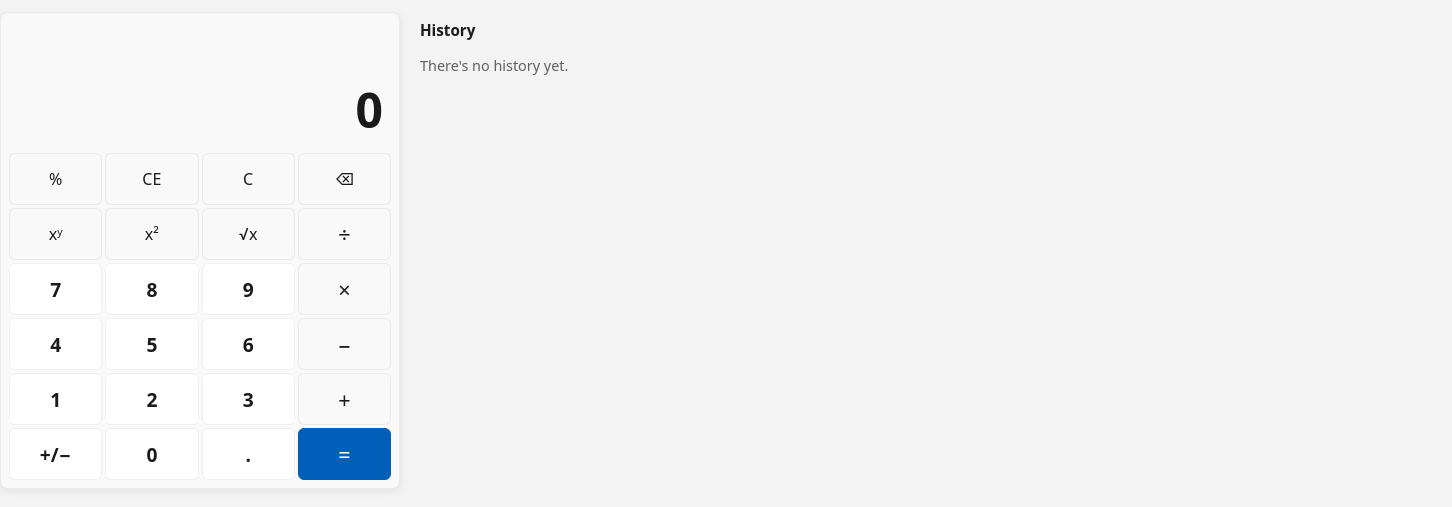
Calculator › computes through the backend and shows the expression
Click the button "1" at (56,399), box [9, 373, 102, 425]
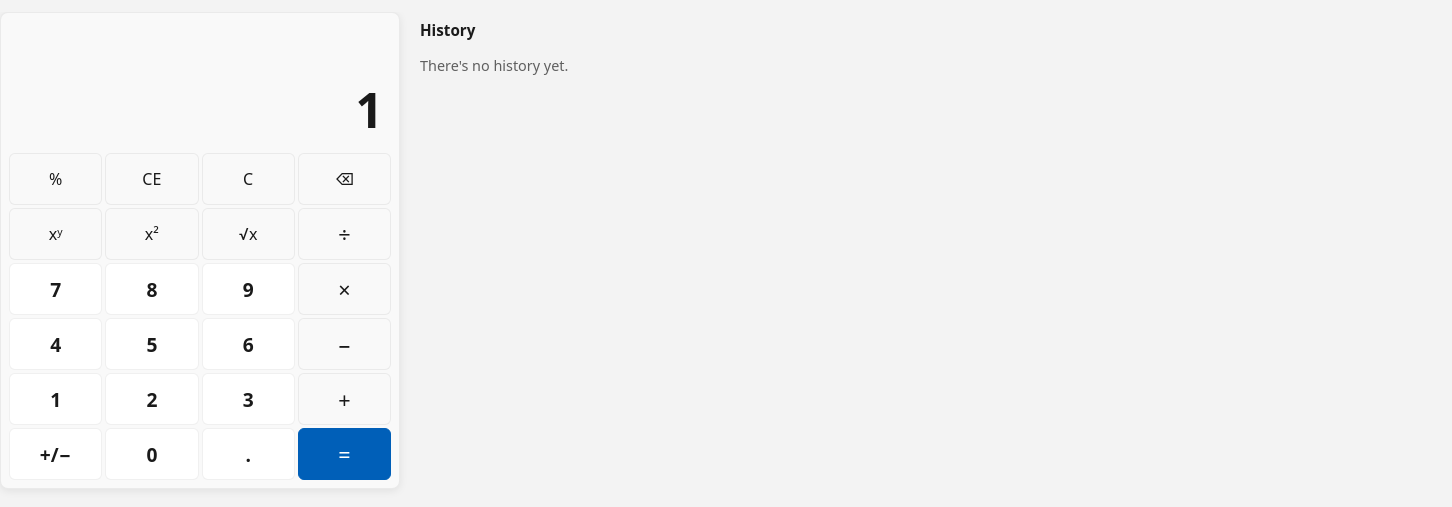
Click the button "2" at (152,399), box [105, 373, 199, 425]
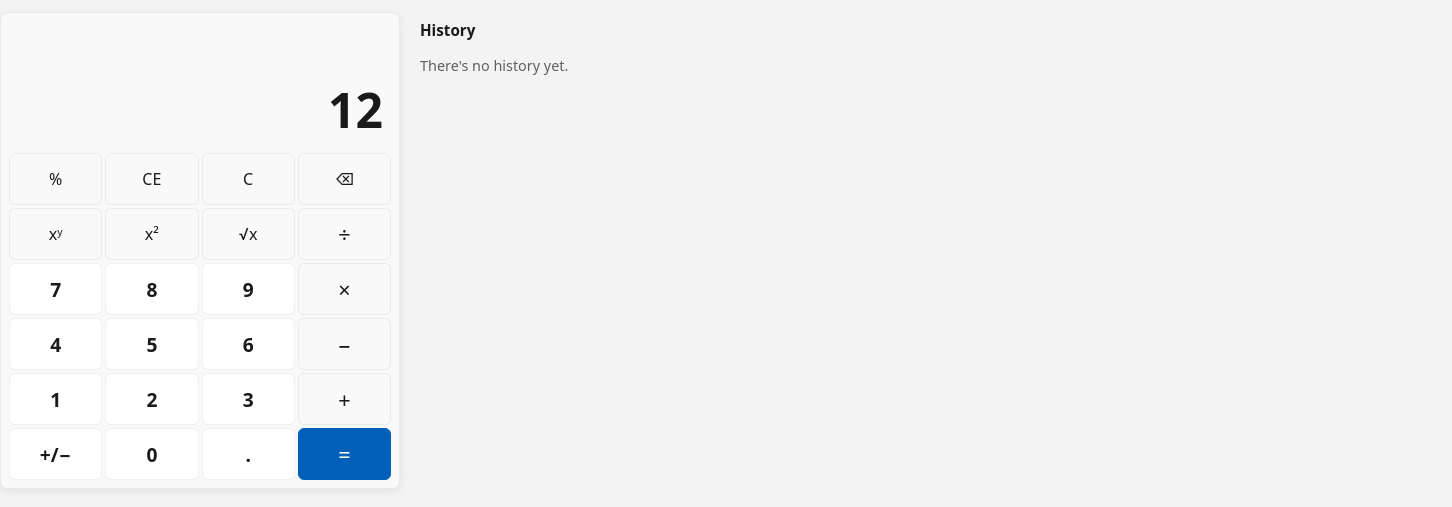
Click the button named "Add" at (344,399), box [298, 373, 391, 425]
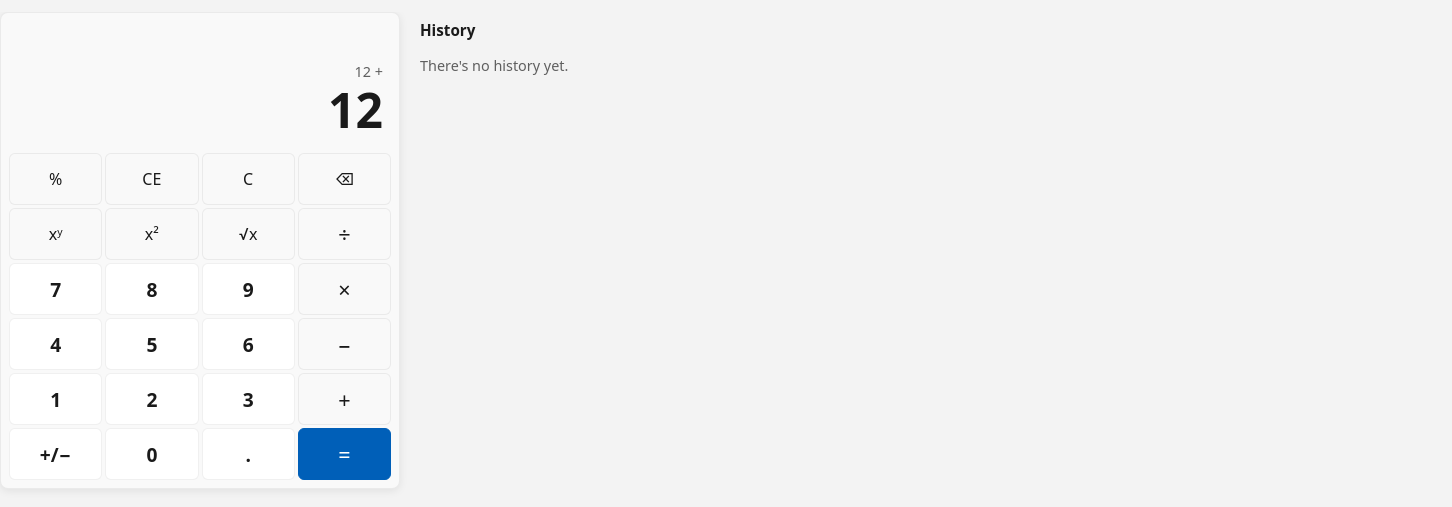
Click the button "3" at (248,399), box [202, 373, 295, 425]
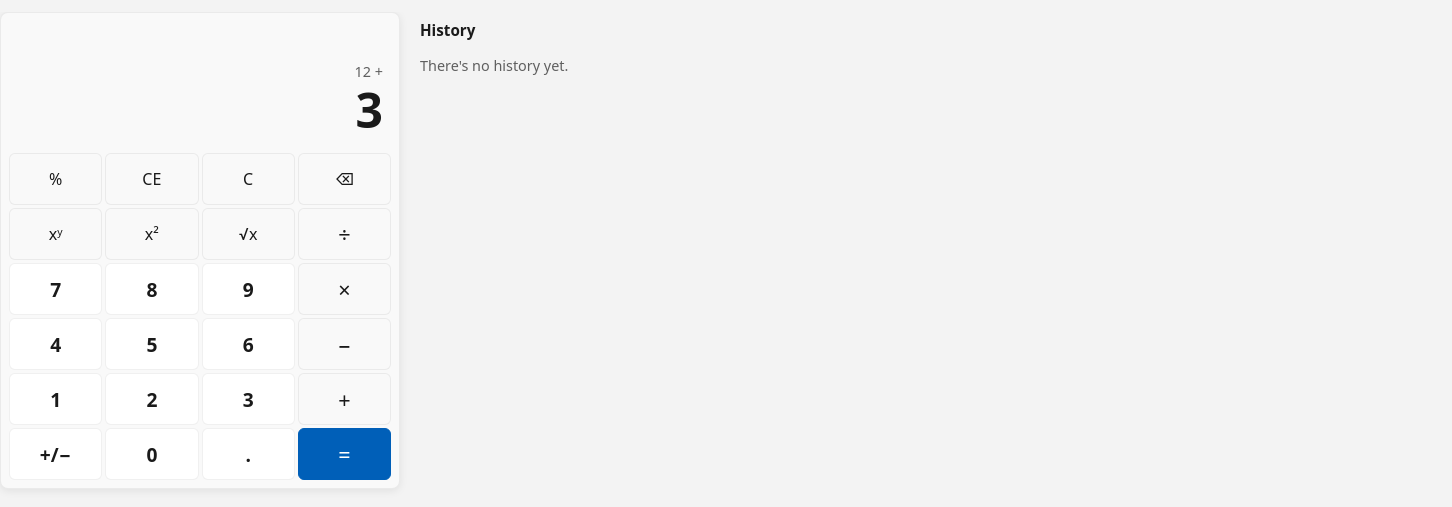
Click the button named "Equals" at (344,454), box [298, 428, 391, 480]
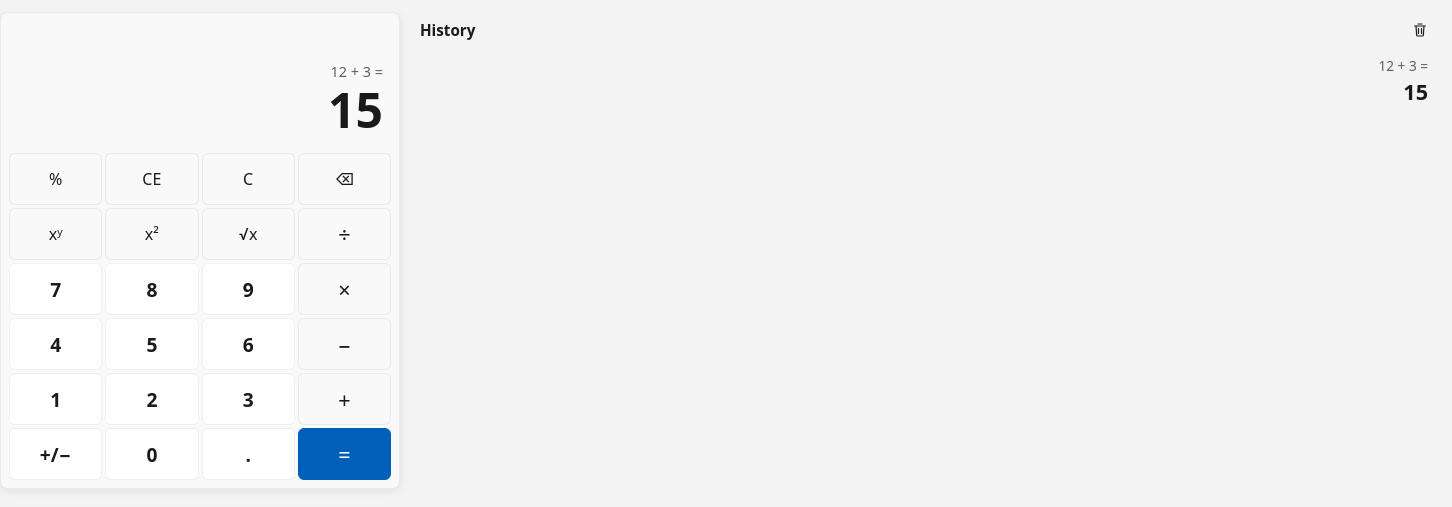
Check: the text named "Display" reads "15", box [328, 77, 383, 142]
Check: the text with test id "expression" reads "12 + 3 =", box [331, 62, 383, 81]
